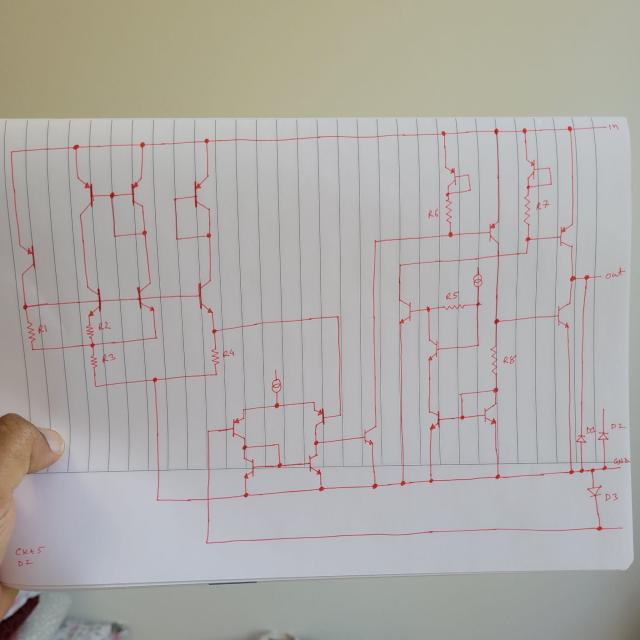crossover: (205, 496, 211, 502), (496, 253, 502, 259)
diode: (586, 484, 602, 498), (596, 431, 610, 441), (575, 434, 587, 444)
junction: (71, 142, 80, 152), (370, 482, 379, 491), (568, 274, 577, 283), (108, 190, 116, 200), (458, 412, 466, 422), (492, 317, 501, 325), (275, 461, 283, 470), (311, 438, 320, 446), (138, 140, 146, 149), (594, 524, 604, 531), (494, 472, 502, 480), (491, 386, 499, 394), (140, 228, 148, 236), (439, 129, 447, 137), (492, 127, 500, 135), (426, 476, 434, 484), (399, 479, 407, 487), (202, 136, 210, 144), (150, 376, 158, 384), (272, 401, 280, 409), (566, 124, 574, 132), (520, 126, 528, 134), (446, 230, 454, 238), (582, 273, 590, 281), (588, 466, 596, 474), (242, 491, 250, 498), (424, 304, 431, 312), (524, 235, 531, 243), (317, 485, 325, 492), (205, 231, 212, 239), (8, 148, 16, 155), (396, 261, 404, 268), (173, 235, 180, 242), (203, 539, 210, 546), (334, 313, 341, 320), (204, 428, 211, 434), (22, 303, 28, 310), (111, 233, 118, 239), (154, 496, 160, 503), (372, 237, 378, 244), (92, 383, 99, 389), (241, 444, 247, 451), (475, 301, 482, 307), (172, 196, 178, 202), (211, 328, 217, 334), (152, 334, 158, 340), (337, 412, 343, 418), (474, 342, 480, 348), (274, 441, 280, 447), (89, 342, 95, 348), (526, 184, 532, 190), (568, 469, 574, 475), (601, 465, 607, 471), (578, 468, 585, 473), (458, 391, 463, 397), (30, 346, 35, 352), (524, 250, 529, 255), (548, 182, 554, 186), (466, 173, 471, 177), (468, 187, 472, 192), (547, 166, 551, 170), (242, 408, 246, 412), (312, 400, 316, 404)
resistor: (488, 342, 499, 377), (439, 302, 466, 312), (523, 194, 531, 226), (26, 321, 36, 342), (444, 198, 452, 224), (210, 346, 220, 366), (85, 323, 94, 339), (90, 354, 98, 368)
terminal: (617, 524, 624, 530), (602, 124, 608, 130), (597, 273, 603, 279), (273, 367, 279, 373), (600, 407, 606, 412), (476, 265, 480, 269), (618, 466, 622, 468)
text: (604, 267, 625, 280), (535, 199, 550, 211), (221, 348, 235, 360), (101, 352, 116, 363), (604, 492, 619, 502), (502, 354, 516, 364), (610, 422, 627, 430), (427, 208, 439, 219), (98, 321, 111, 331), (445, 291, 459, 300), (613, 457, 628, 465), (38, 322, 47, 334), (608, 122, 618, 131), (586, 426, 596, 434)
transformer: (270, 376, 282, 396), (472, 272, 482, 288)
transistor: (74, 176, 94, 218), (191, 173, 213, 211), (16, 242, 38, 279), (197, 279, 214, 314), (136, 281, 155, 312), (556, 221, 577, 249), (86, 285, 103, 318), (554, 300, 572, 328), (396, 296, 413, 325), (128, 176, 143, 207), (481, 402, 498, 426), (230, 415, 246, 440), (306, 453, 322, 476), (441, 166, 458, 187), (487, 220, 501, 243), (426, 336, 438, 362), (312, 407, 326, 429), (241, 457, 255, 479), (363, 424, 377, 446), (427, 409, 440, 431), (525, 158, 535, 180)
